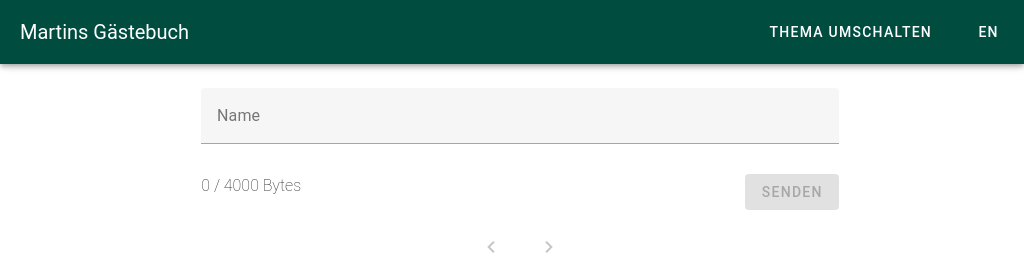
Test case: Guestbook › toggles the language
Click the button "en": [988, 32] box [956, 14, 1020, 50]
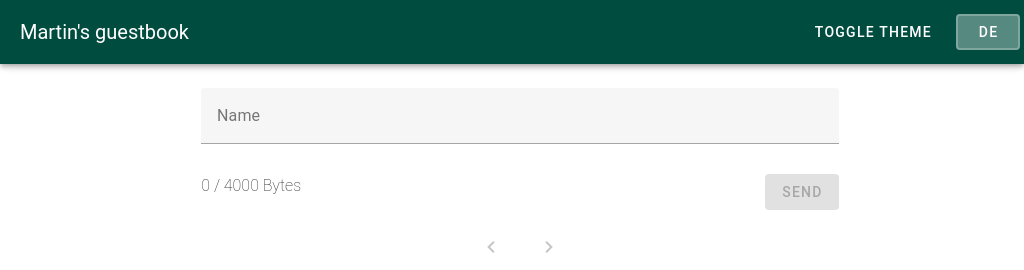
expect the text "Martin's guestbook" is shown: met, box [20, 20, 189, 44]
expect the button "Toggle Theme" is shown: met, box [798, 14, 948, 50]
expect the button "de" is shown: met, box [956, 14, 1020, 50]
